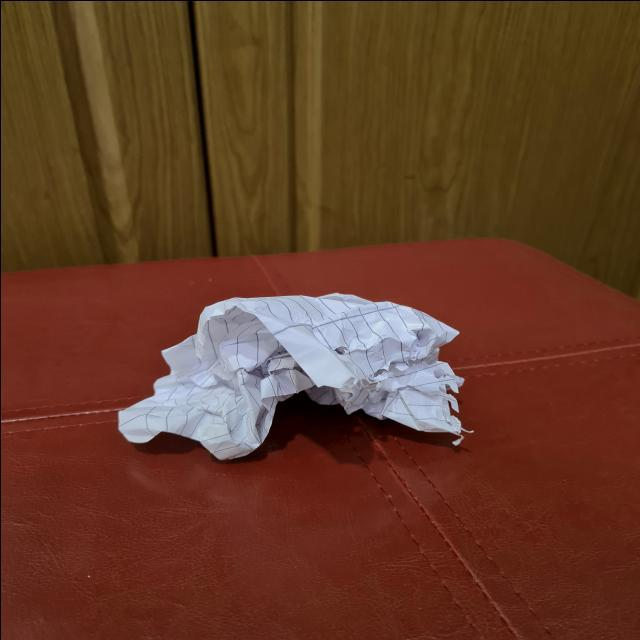Paper: (113, 286, 483, 466)
